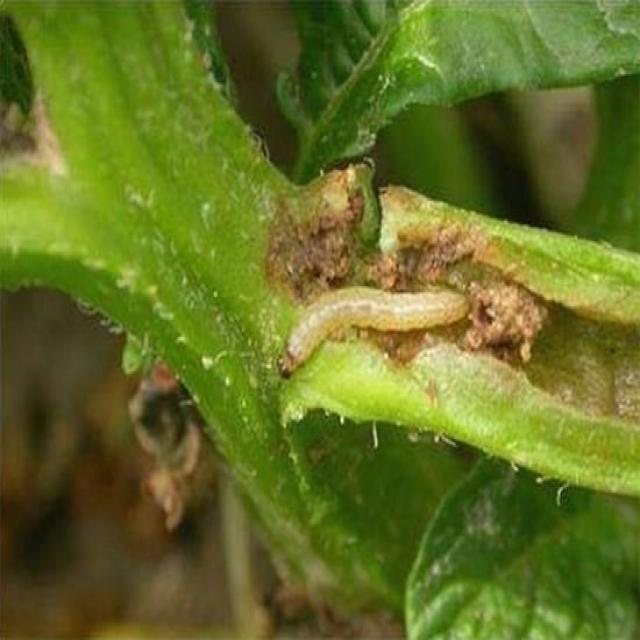cornborer-Larva-: (256, 264, 477, 386)
